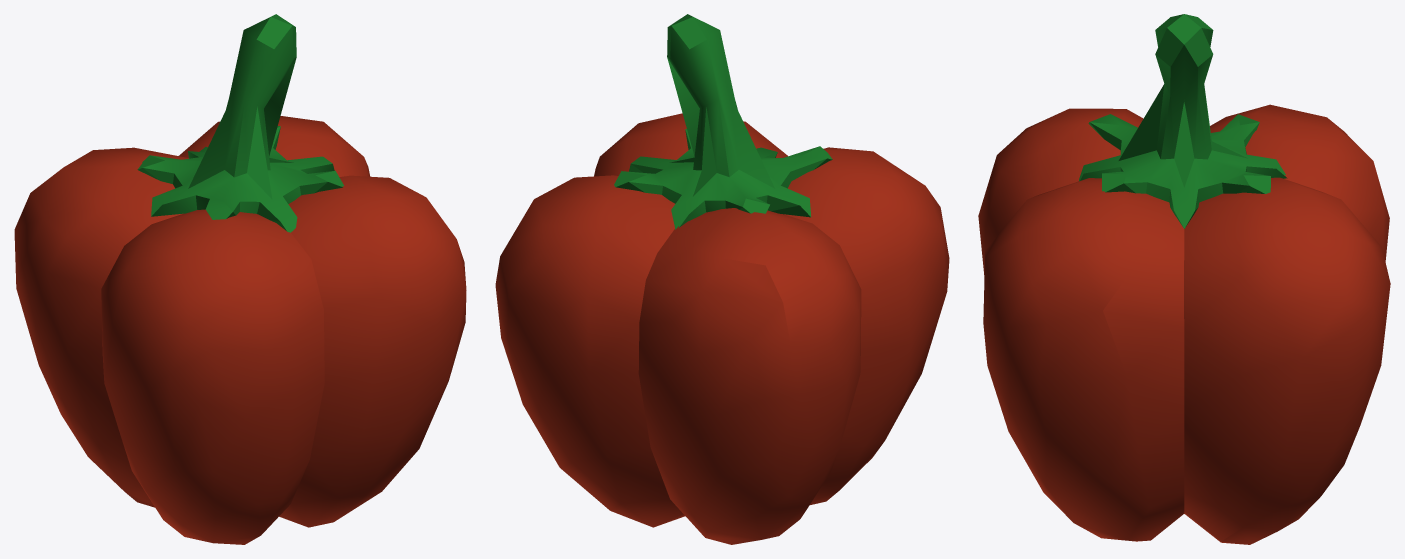
Rendered from red paprika.fbx.
3 views of the same model, side by side, from view 1: azimuth 30°, elevation 25°; view 2: azimuth 150°, elevation 25°; view 3: azimuth 270°, elevation 25° (orthographic). The views are drawn at different scales.
Parts seen in each view (by area): view 1: Cube, Cube.002; view 2: Cube, Cube.002; view 3: Cube, Cube.002.
Boxes of the visible parts, x1,y1,x2,y2 form: Cube: [14, 116, 466, 544]; Cube.002: [137, 14, 343, 232]; Cube: [495, 113, 949, 544]; Cube.002: [614, 14, 832, 229]; Cube: [978, 104, 1390, 544]; Cube.002: [1079, 14, 1287, 228].
Bounding box in the file's own units: 151 × 214 × 153.
